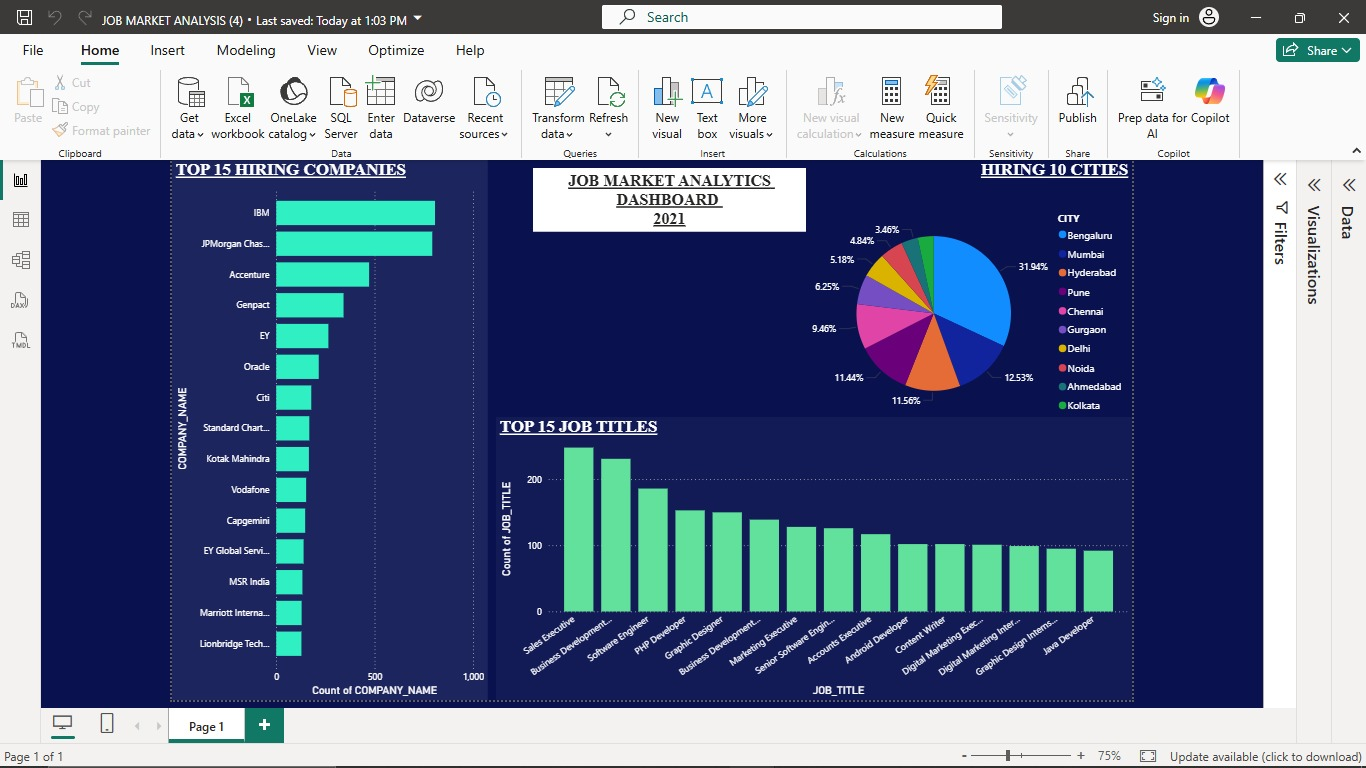

The dashboard page shown, as its layout file describes it:
{"tool":"powerbi","page":{"name":"Page 1","canvas":[1280,720],"ordinal":0},"visuals":[{"type":"columnChart","title":"TOP 15 JOB TITLES","fields":{"Category":["cleaned_jobs.JOB_TITLE"],"Y":["CountNonNull(cleaned_jobs.JOB_TITLE)"]},"box":[432,342.7,848,377.3],"z":0},{"type":"pieChart","title":"HIRING 10 CITIES","fields":{"Category":["cleaned_jobs.CITY"],"Y":["CountNonNull(cleaned_jobs.CITY)"]},"box":[845.3,0,434.7,384],"z":2000},{"type":"barChart","title":"TOP 15 HIRING COMPANIES","fields":{"Category":["cleaned_jobs.COMPANY_NAME"],"Y":["CountNonNull(cleaned_jobs.COMPANY_NAME)"]},"box":[0,0,421.3,720],"z":3000},{"type":"textbox","box":[481.3,10.7,364,85.3],"z":4000}]}

Visuals, with their boxes on the page's 1280x720 design canvas (x1, y1, x2, y2). These are canvas units, not pixel positions in the 1366x768 screenshot, which may show the page scaled, cropped or inside an application window:
"TOP 15 JOB TITLES" columnChart: <box>432,343,1280,720</box>
"HIRING 10 CITIES" pieChart: <box>845,0,1280,384</box>
"TOP 15 HIRING COMPANIES" barChart: <box>0,0,421,720</box>
textbox: <box>481,11,845,96</box>
